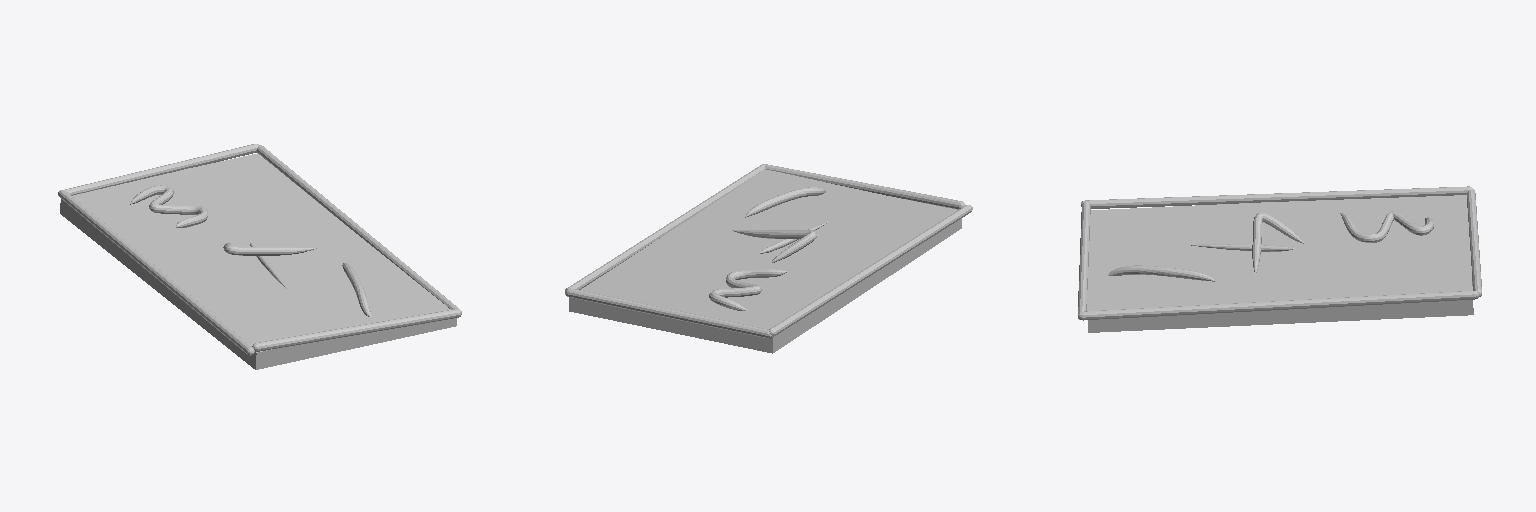
The model's file is painting 1.obj.
The picture shows the model from 3 angles: view 1: azimuth 30°, elevation 25°; view 2: azimuth 150°, elevation 25°; view 3: azimuth 270°, elevation 25°; orthographic projection.
Visible parts, largest first — view 1: s.0021, s.0032, s.0026, s.0028, s.0034, s.0038, s.0039; view 2: s.0021, s.0032, s.0034, s.0026, s.0028, s.0038, s.0039, s.0041; view 3: s.0021, s.0026, s.0032, s.0038, s.0028, s.0034, s.0041, s.0039.
Part boxes in pixels (bbox=[...]): s.0021: bbox=[60, 153, 456, 369]; s.0032: bbox=[58, 190, 254, 355]; s.0026: bbox=[257, 145, 459, 309]; s.0028: bbox=[252, 309, 461, 351]; s.0034: bbox=[65, 144, 258, 195]; s.0038: bbox=[130, 185, 207, 227]; s.0039: bbox=[223, 243, 316, 255]; s.0021: bbox=[569, 169, 961, 353]; s.0032: bbox=[769, 205, 972, 336]; s.0034: bbox=[565, 288, 772, 338]; s.0026: bbox=[565, 164, 764, 294]; s.0028: bbox=[764, 164, 964, 209]; s.0038: bbox=[709, 269, 786, 310]; s.0039: bbox=[732, 230, 816, 262]; s.0041: bbox=[745, 187, 825, 217]; s.0021: bbox=[1087, 195, 1473, 332]; s.0026: bbox=[1081, 291, 1478, 320]; s.0032: bbox=[1081, 186, 1473, 208]; s.0038: bbox=[1340, 211, 1433, 242]; s.0028: bbox=[1078, 202, 1090, 319]; s.0034: bbox=[1467, 190, 1481, 296]; s.0041: bbox=[1108, 265, 1215, 281]; s.0039: bbox=[1252, 213, 1303, 274].
Size of the model in its own units: 35.92 by 8.28 by 58.94.